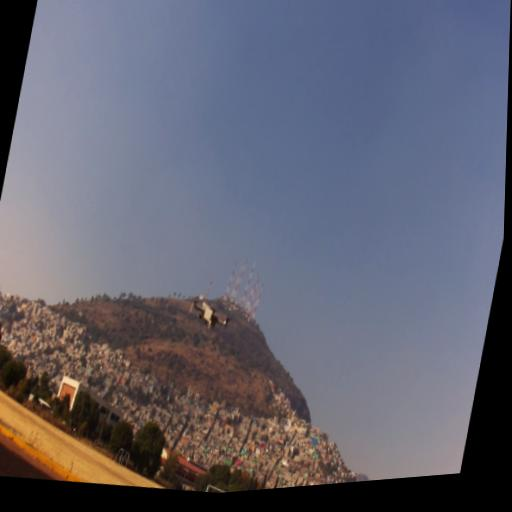drones: (181, 285, 239, 345)
